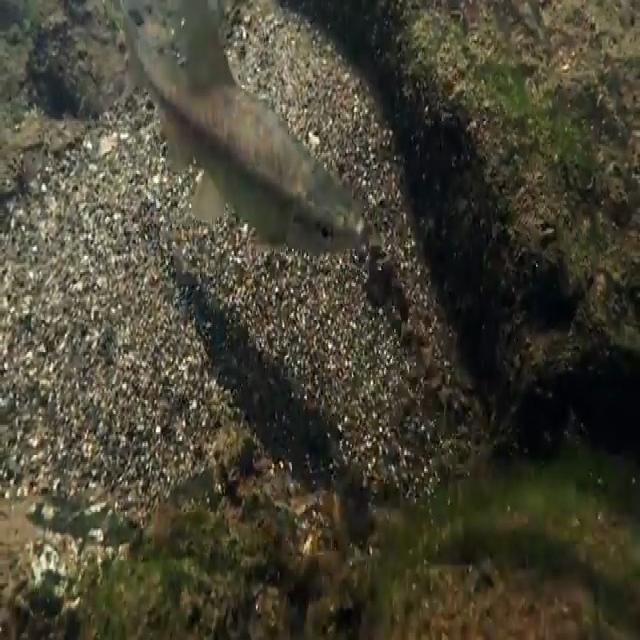Cakil Baligi: (113, 10, 373, 256)
